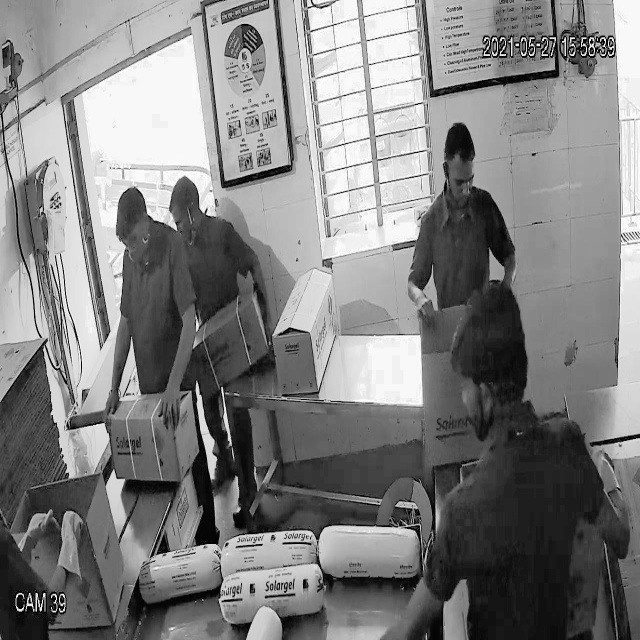Sin_gafas: (438, 160, 480, 195)
